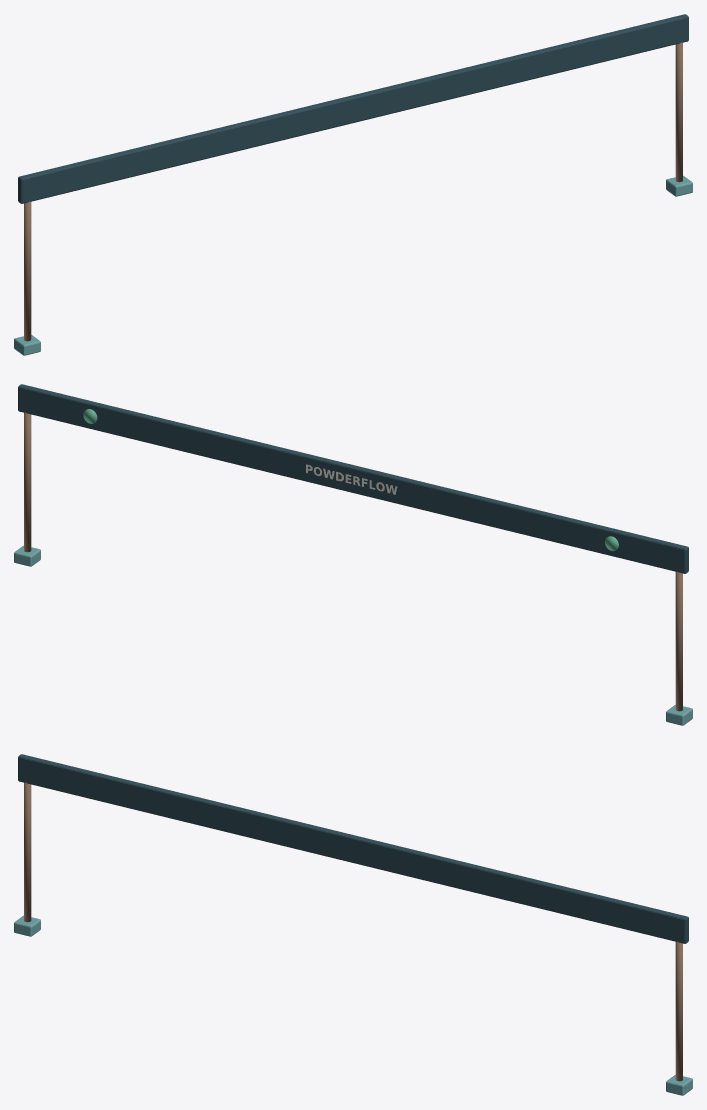
The model's file is StartGate.fbx.
The picture shows the model from 3 angles, top to bottom: view 1: azimuth 30°, elevation 25°; view 2: azimuth 150°, elevation 25°; view 3: azimuth 330°, elevation 25°; orthographic projection.
Visible parts, largest first — view 1: Visual_StartGate; view 2: Visual_StartGate; view 3: Visual_StartGate.
Part boxes in pixels (x1=…): Visual_StartGate: x1=14, y1=14, x2=692, y2=355; Visual_StartGate: x1=14, y1=384, x2=692, y2=725; Visual_StartGate: x1=14, y1=754, x2=692, y2=1095.
Size of the model in its own units: 20.55 by 5.13 by 0.55.
